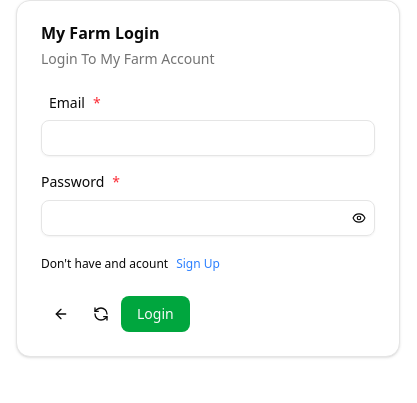
Login Form Tests › shows email validation error and hides after valid input
In the field labelled "Email *": (208, 138) [41,120,375,156], type "test"
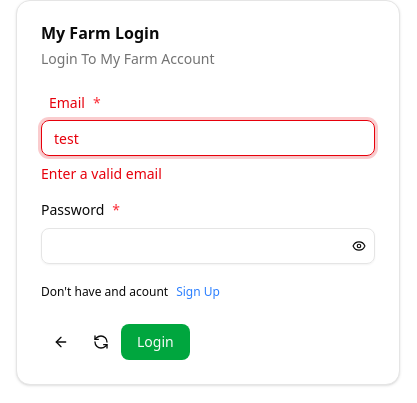
Check: the text "Enter a valid email" is shown, box [41,164,162,183]
In the field labelled "Email *": (208, 138) [41,120,375,156], type "test@test.com"
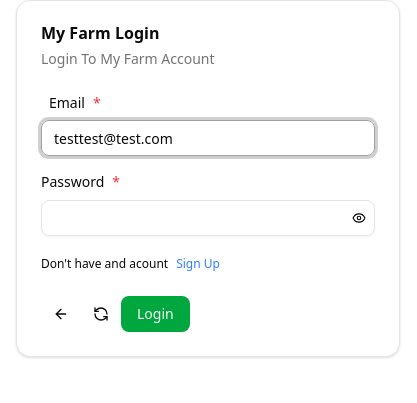
Check: the text "Enter a valid email" is gone
